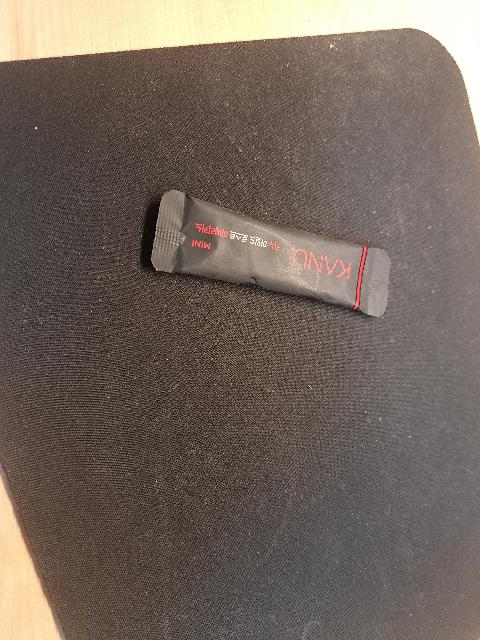KANU: (145, 174, 408, 342)
